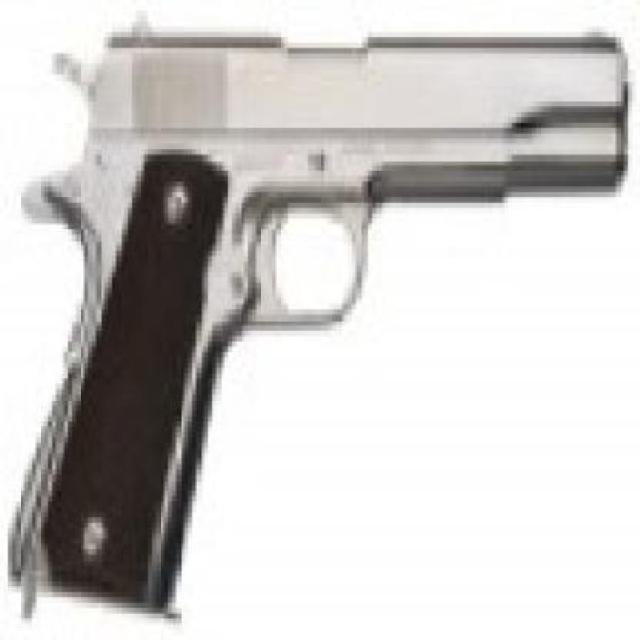gun: (15, 11, 620, 629)
